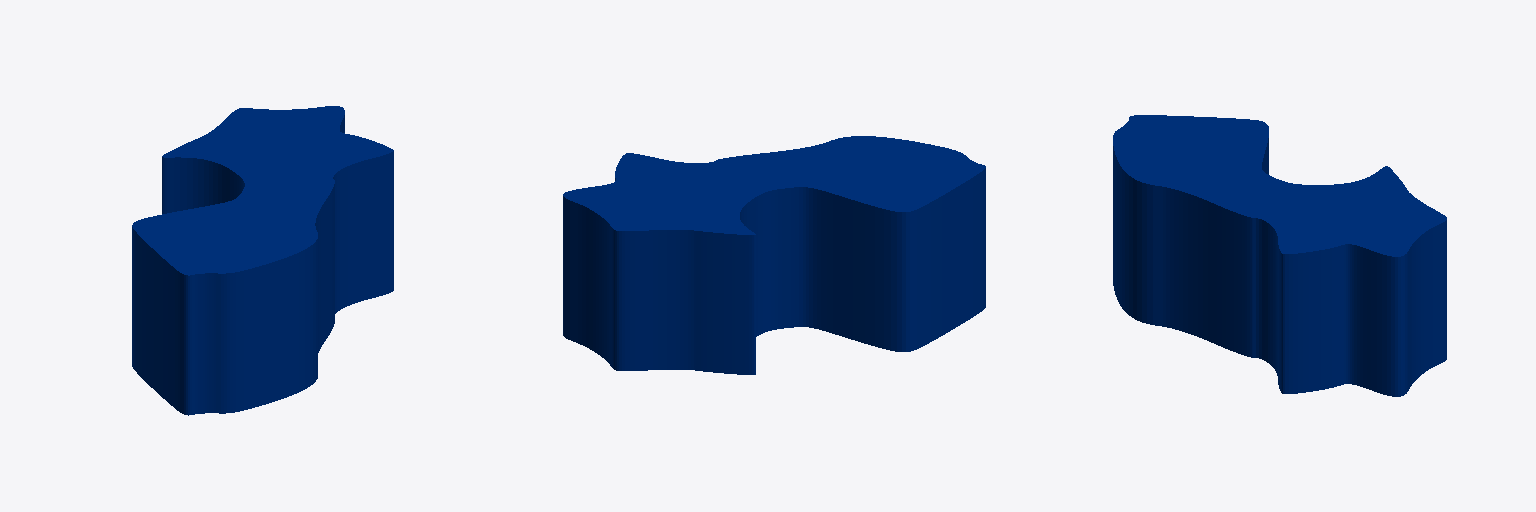
3 views of the same model, side by side, from view 1: azimuth 30°, elevation 25°; view 2: azimuth 150°, elevation 25°; view 3: azimuth 270°, elevation 25° (orthographic).
Visible parts, largest first — view 1: Curve.033_path4244; view 2: Curve.033_path4244; view 3: Curve.033_path4244.
Part boxes in pixels (left/top/right/bottom): Curve.033_path4244: left=132, top=106, right=393, bottom=415; Curve.033_path4244: left=563, top=136, right=985, bottom=374; Curve.033_path4244: left=1113, top=115, right=1446, bottom=396.
Size of the model in its own units: 0.2175 by 0.1 by 0.2166.